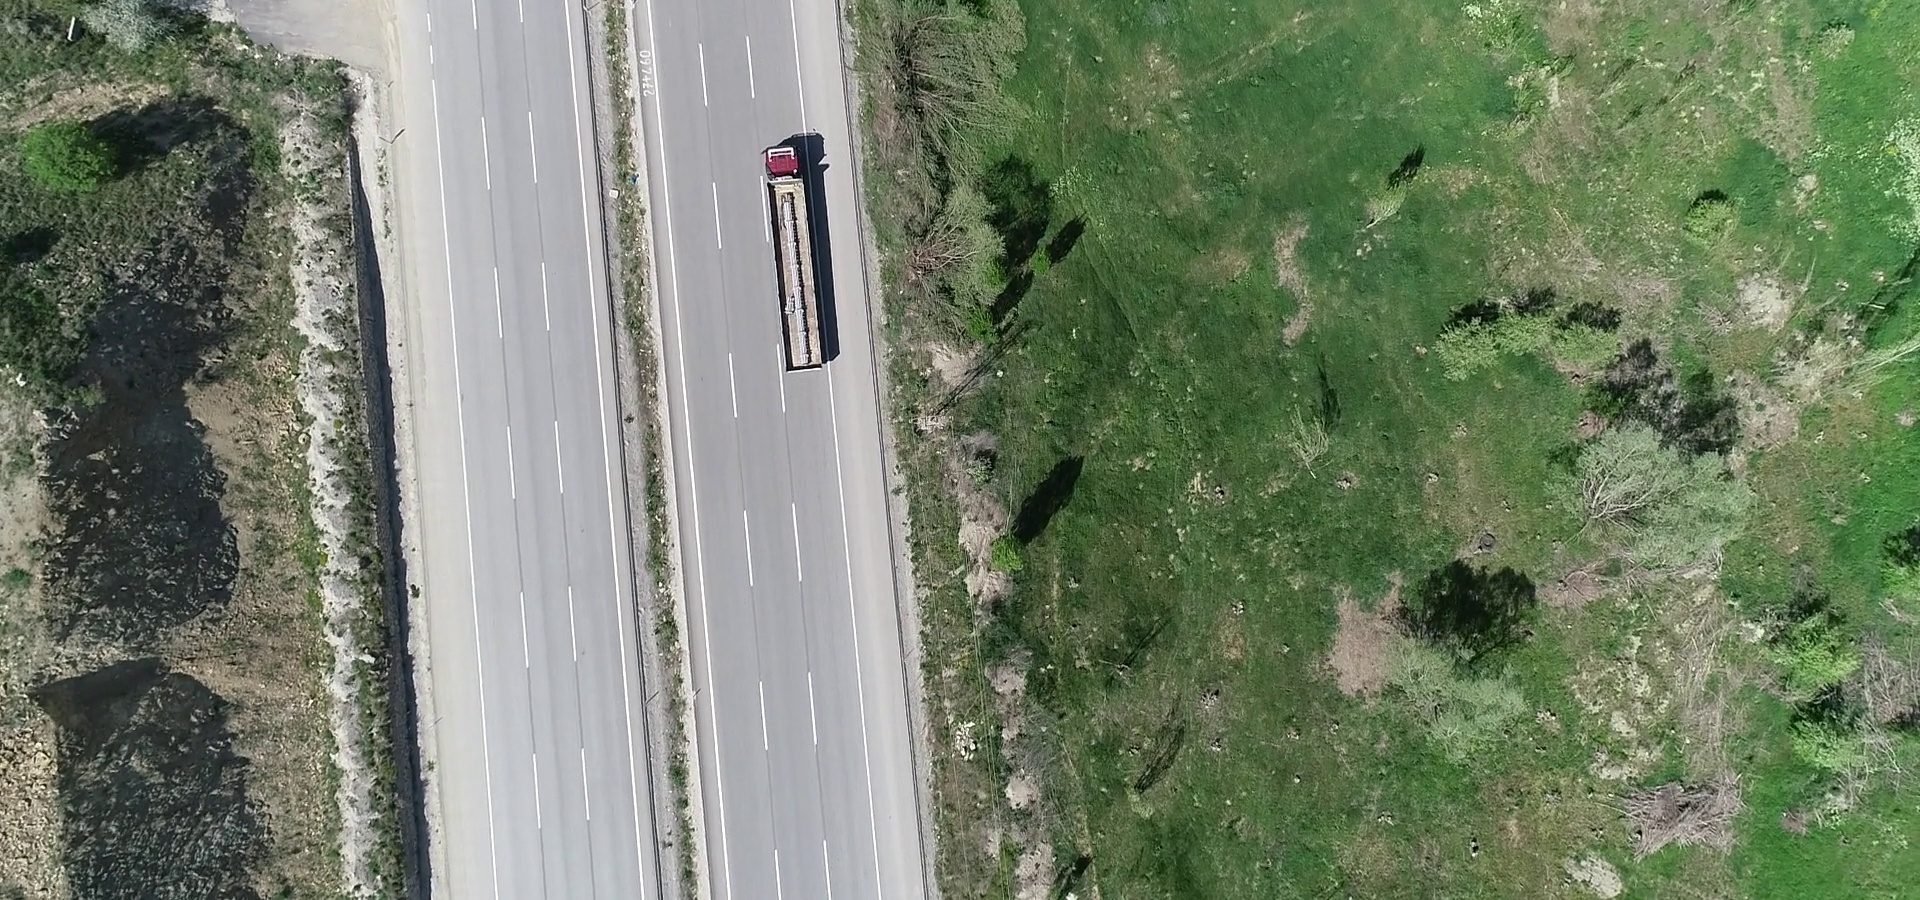arac: (757, 137, 839, 376)
